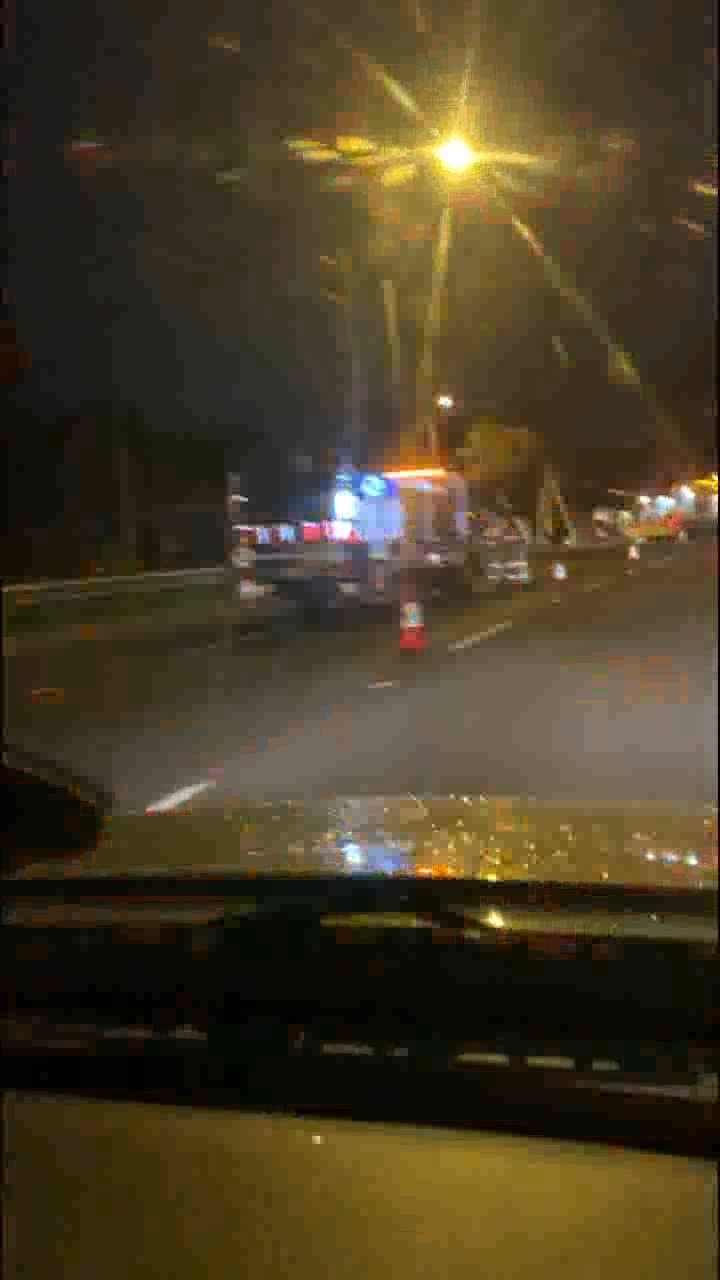person: (489, 505, 533, 594)
truck: (229, 475, 468, 594)
